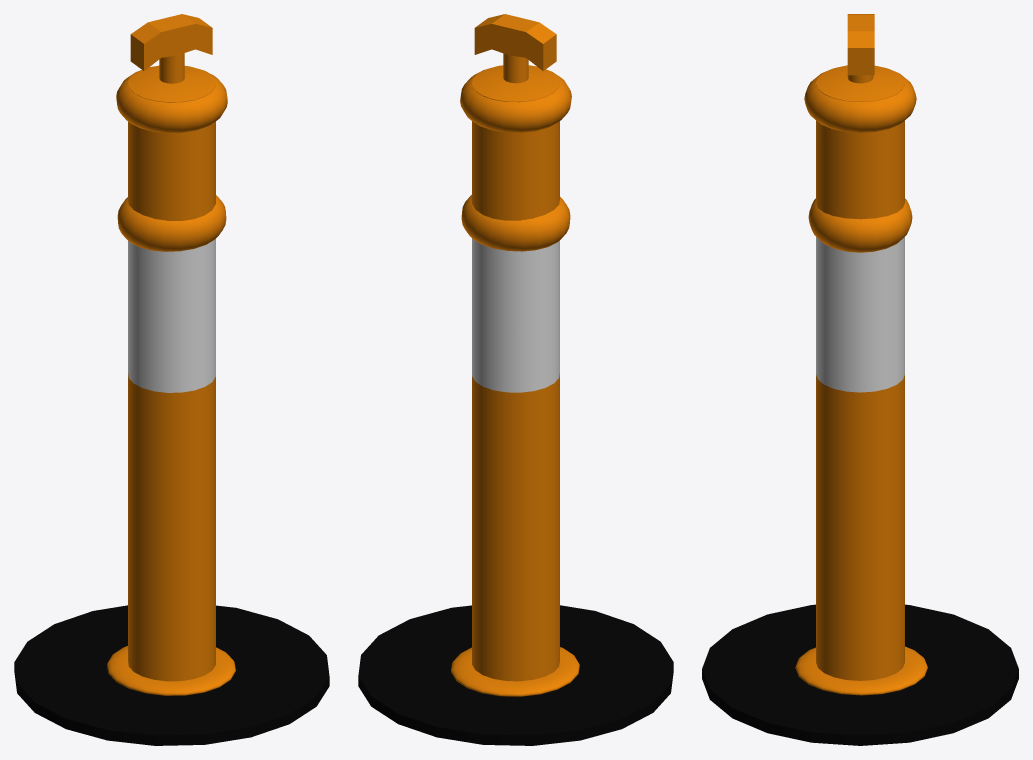
The model's file is 22T3_GAD174.1_Lomax_Owen_Bollard_Model.fbx.
3 views of the same model, side by side, from view 1: azimuth 30°, elevation 25°; view 2: azimuth 150°, elevation 25°; view 3: azimuth 270°, elevation 25° (orthographic).
Parts seen in each view (by area): view 1: pCylinder4; view 2: pCylinder4; view 3: pCylinder4.
Part boxes in pixels (left/top/right/bottom): pCylinder4: left=14, top=14, right=329, bottom=745; pCylinder4: left=358, top=14, right=673, bottom=745; pCylinder4: left=702, top=14, right=1018, bottom=745.
Size of the model in its own units: 2 by 4.57 by 2.
